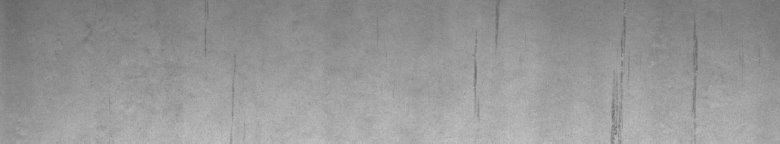ka: (469, 4, 499, 96)
